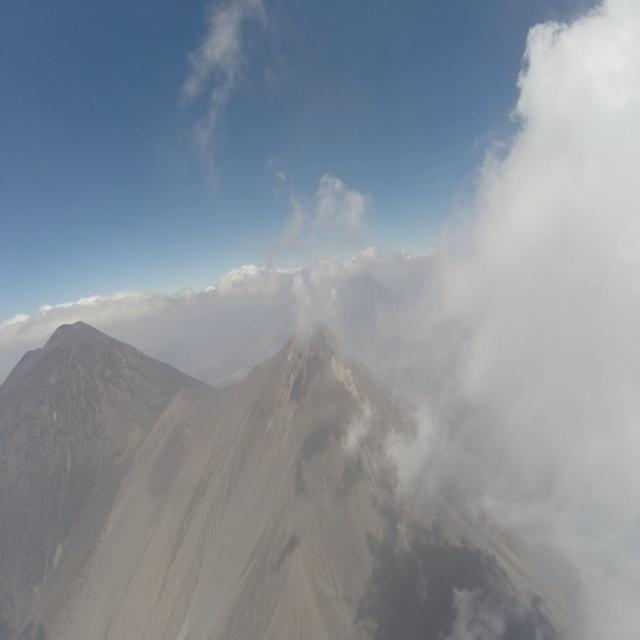Summit: (247, 323, 376, 410)
